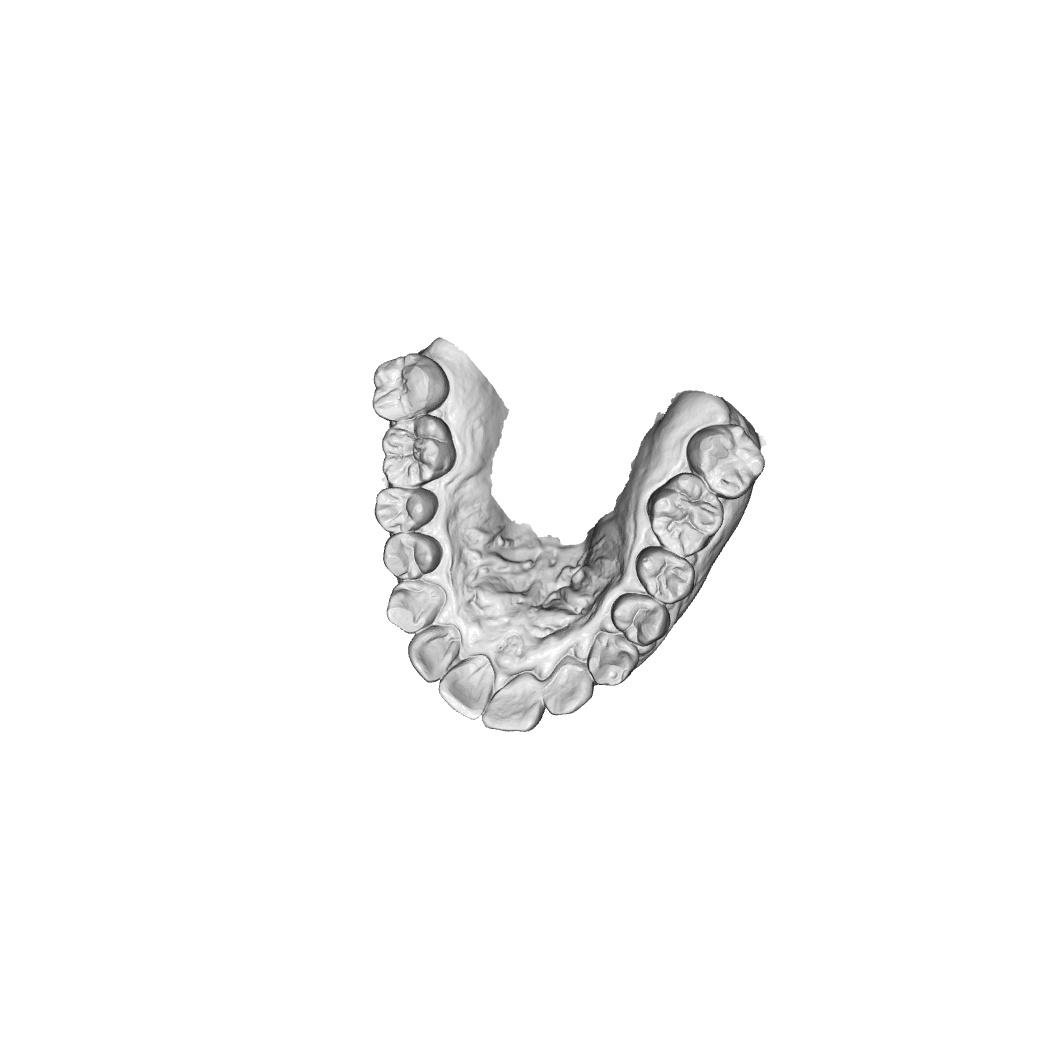canine: (385, 579, 448, 635), (587, 629, 640, 687)
incisor: (481, 669, 545, 734), (438, 653, 496, 721), (406, 624, 463, 684), (545, 654, 595, 717)
molar: (646, 472, 725, 558), (686, 421, 766, 500), (379, 414, 457, 488), (371, 351, 451, 422)
premolar: (634, 545, 696, 605), (610, 592, 672, 647), (374, 485, 440, 535), (381, 531, 444, 580)
